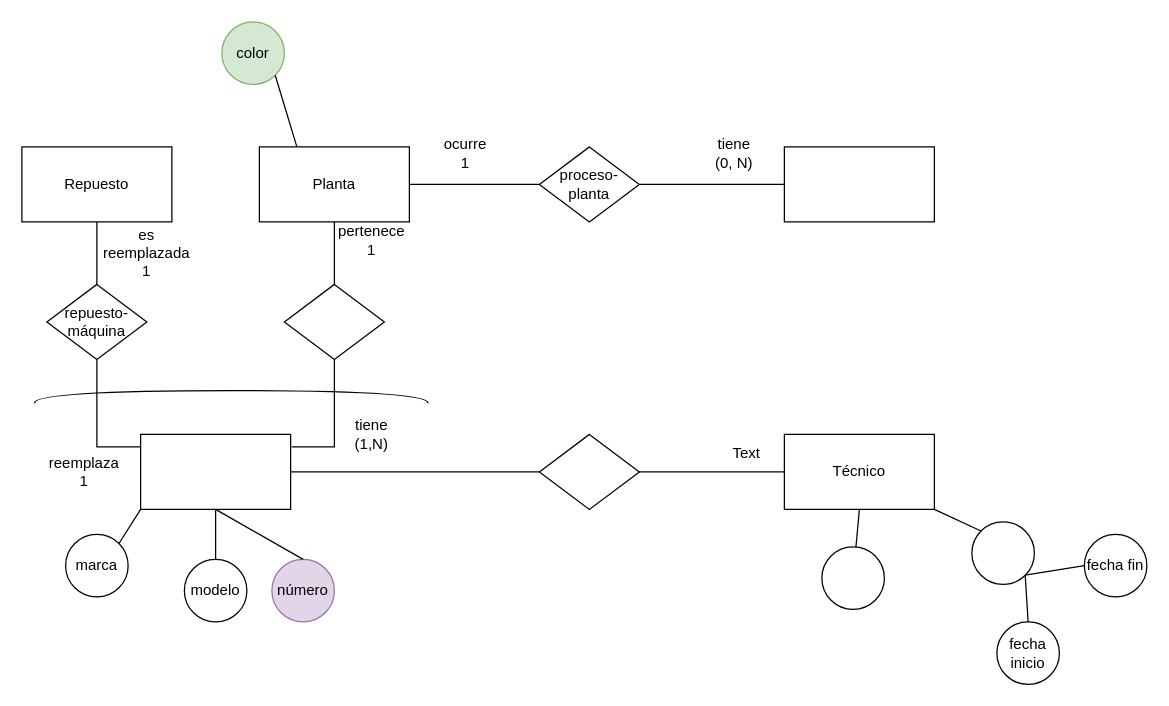
The diagram is 1169 pixels wide and 706 high, and some of its shapes have lost their labels. Each missing label, with the centre of its shape:
Máquina: (215,471)
máquina- técnico: (588,471)
periodo: (1002,552)
planta- máquina: (333,321)
Proceso: (858,184)
turno: (852,577)
